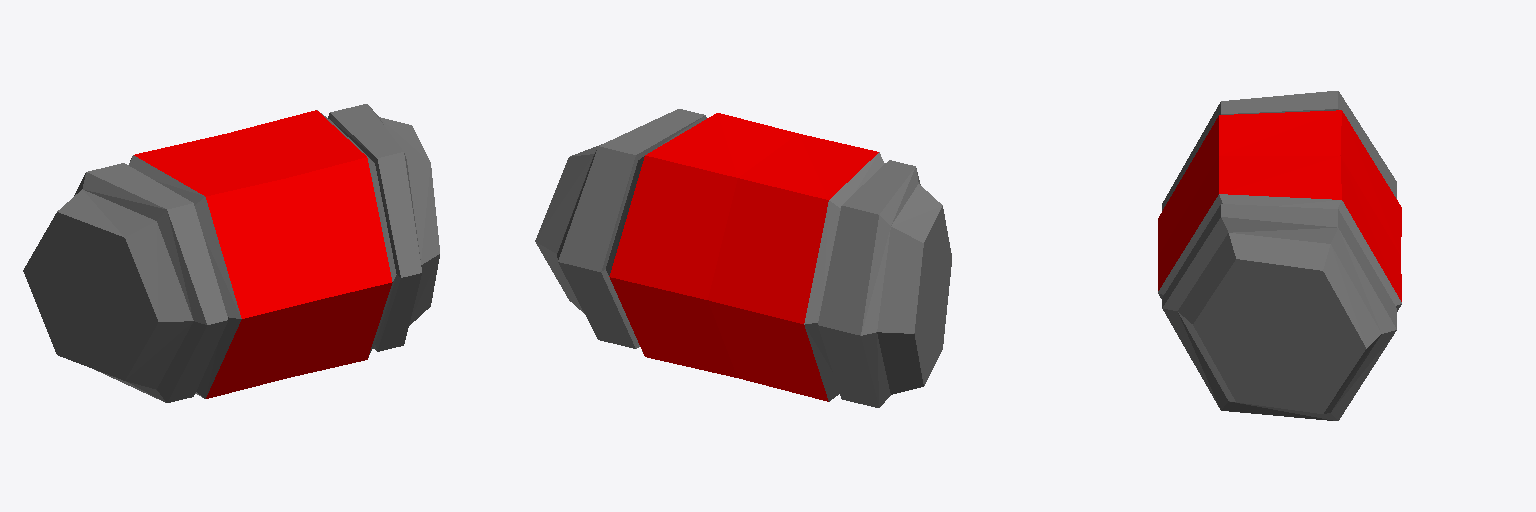
Rendered from Wall.obj.
3 renders of one model, left to right at view 1: azimuth 30°, elevation 25°; view 2: azimuth 150°, elevation 25°; view 3: azimuth 270°, elevation 25°, orthographic.
Parts seen in each view (by area): view 1: Wall polySurface1 pTorus1; view 2: Wall polySurface1 pTorus1; view 3: Wall polySurface1 pTorus1.
Part boxes in pixels (x1,y1,x2,y2): Wall polySurface1 pTorus1: (23,104,439,402); Wall polySurface1 pTorus1: (535,109,951,407); Wall polySurface1 pTorus1: (1158,91,1401,420).
Size of the model in its own units: 3.55 by 1.81 by 1.98.